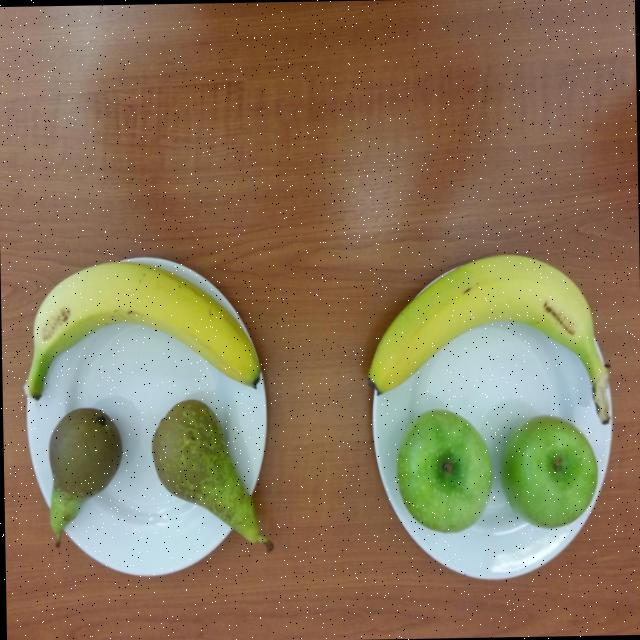banana: (365, 251, 611, 427), (22, 259, 260, 398)
